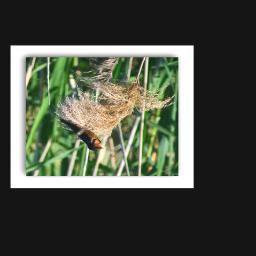Swallow: (54, 115, 106, 152)
